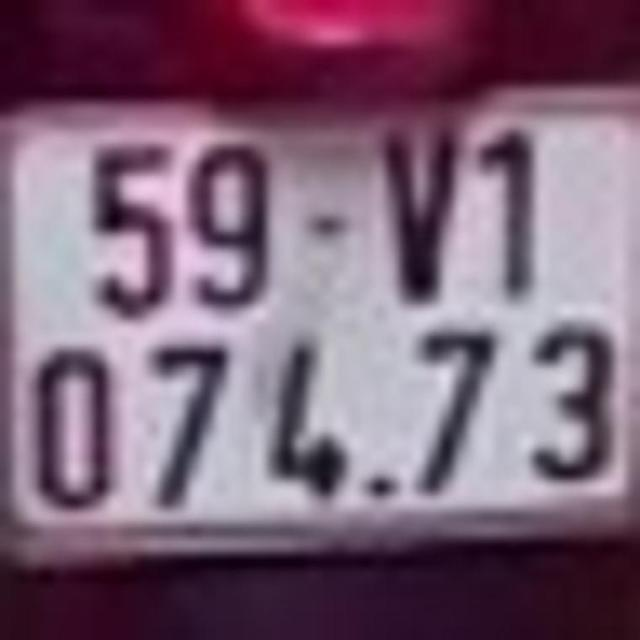0: (31, 340, 115, 513)
1: (475, 116, 545, 301)
3: (526, 313, 619, 486)
4: (266, 333, 350, 508)
5: (88, 135, 178, 321)
7: (408, 321, 498, 500), (143, 338, 231, 511)
9: (188, 139, 272, 312)
V: (380, 120, 464, 306)
